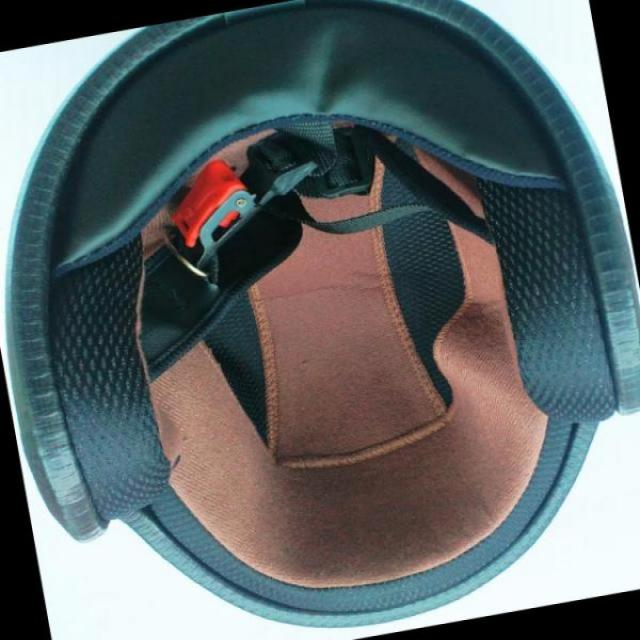Helmet: (15, 0, 640, 622)
